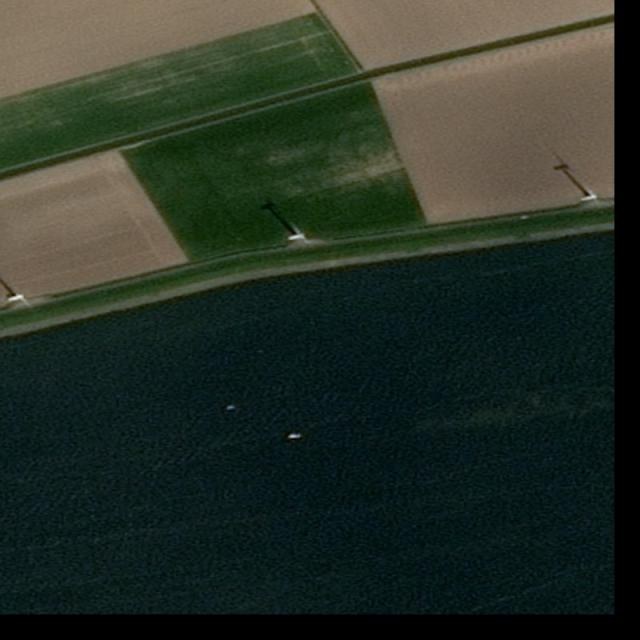ship: (286, 433, 302, 440), (226, 405, 236, 410)
